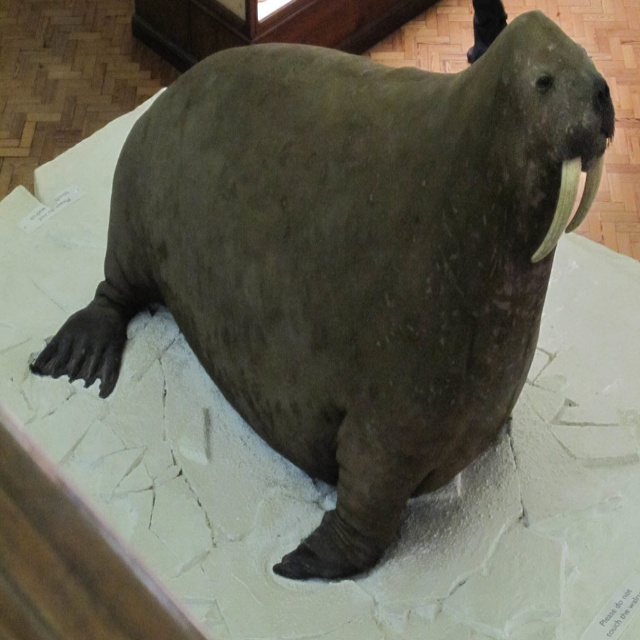Harbor seal: (30, 3, 616, 585)
